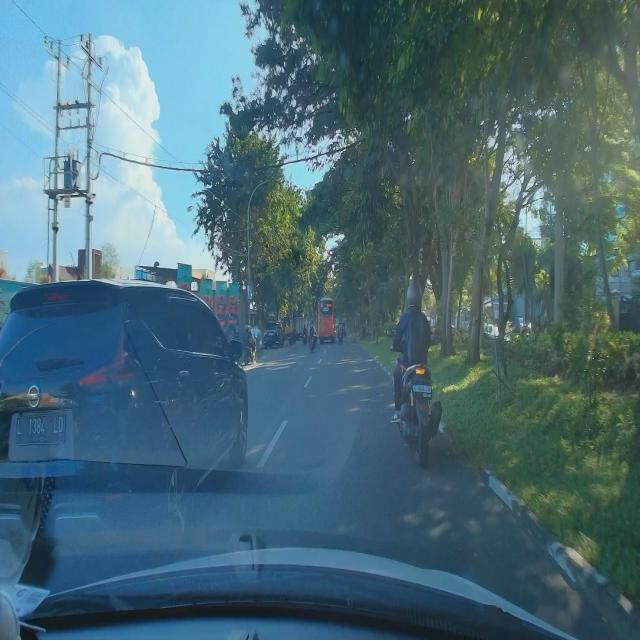bus: (317, 298, 335, 344)
car: (0, 274, 250, 559)
license-plate: (15, 412, 66, 447)
